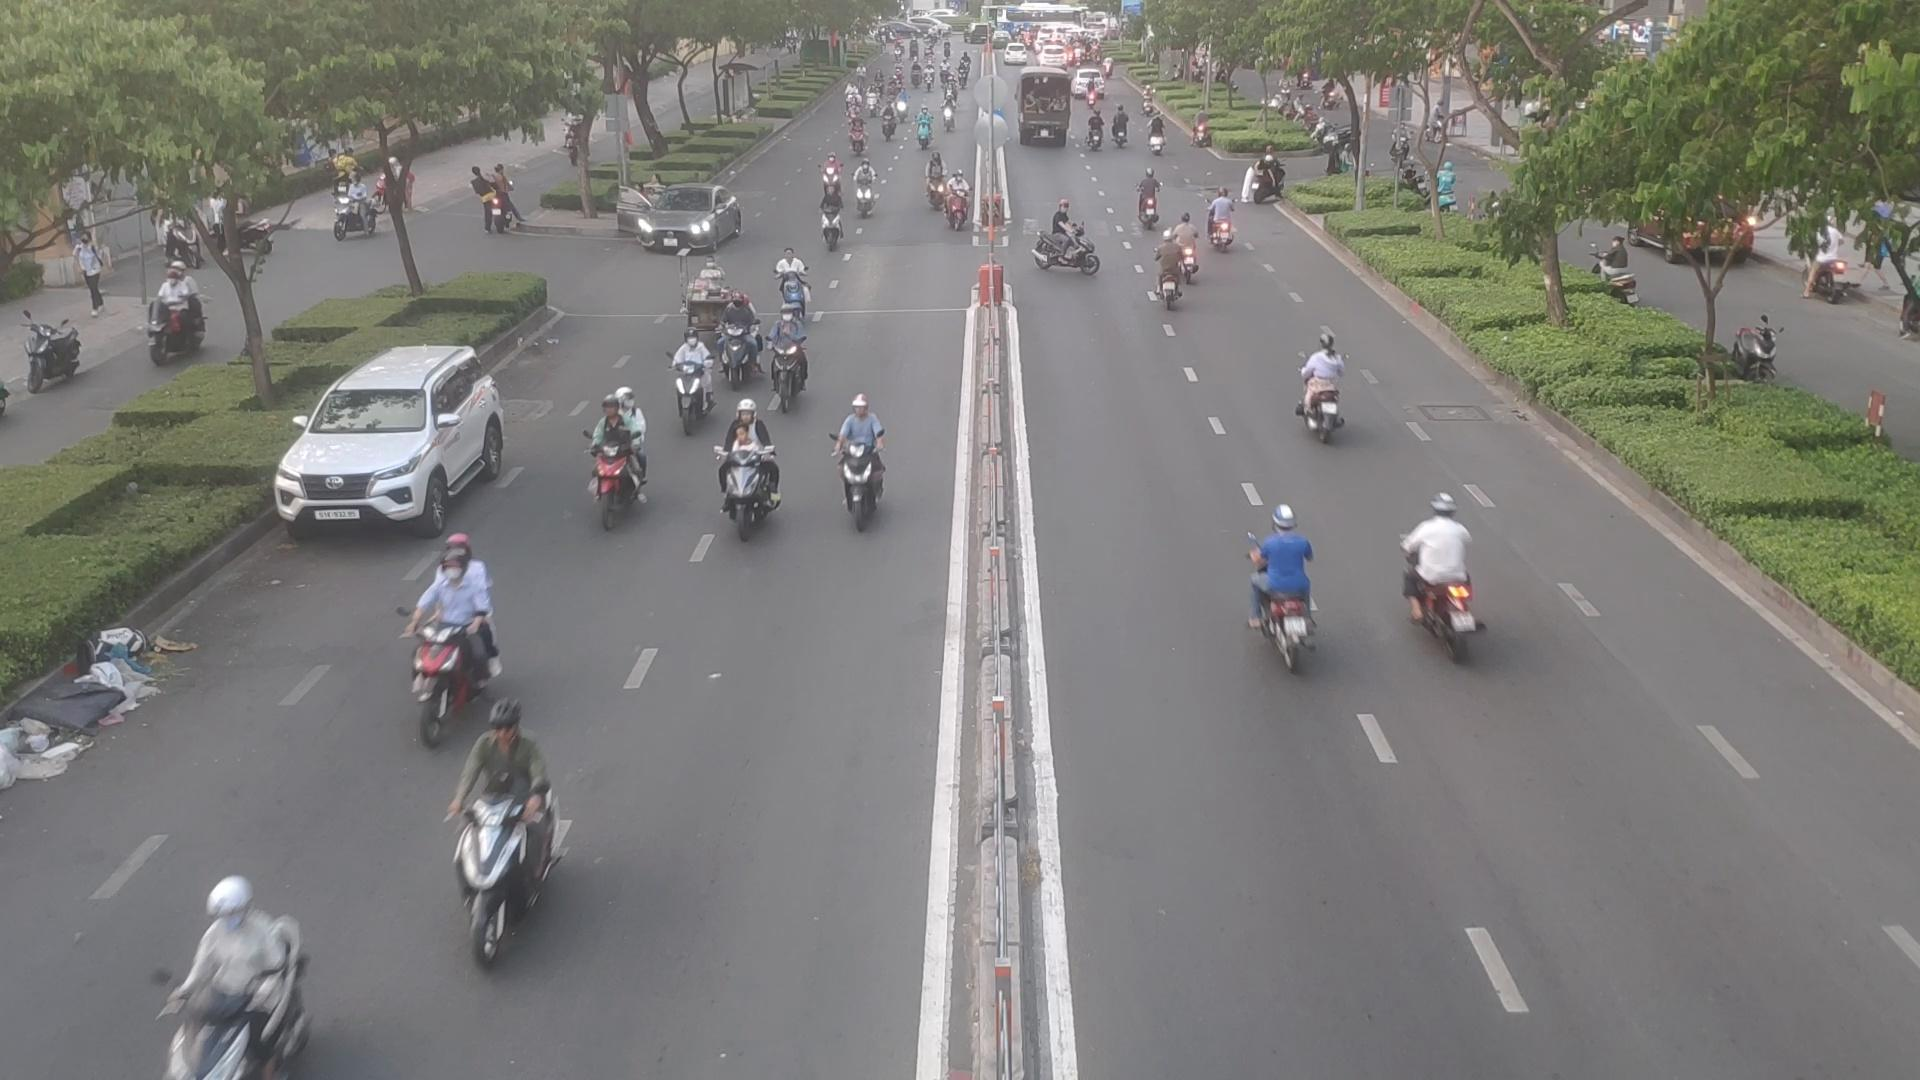car: (272, 345, 512, 534), (621, 189, 749, 258)
motorbike: (160, 857, 324, 1080), (443, 703, 559, 936), (1408, 489, 1487, 673), (1240, 504, 1313, 673), (409, 616, 506, 738), (833, 415, 893, 530), (585, 419, 650, 520), (1294, 328, 1349, 439), (1033, 187, 1095, 281), (769, 306, 822, 404), (669, 327, 713, 429), (717, 456, 779, 529), (717, 305, 756, 381), (1154, 220, 1179, 306), (773, 247, 807, 309), (1207, 186, 1236, 257), (943, 160, 975, 223), (819, 194, 849, 257), (851, 154, 884, 211), (1178, 199, 1201, 270), (920, 149, 949, 200), (1139, 160, 1160, 229)
